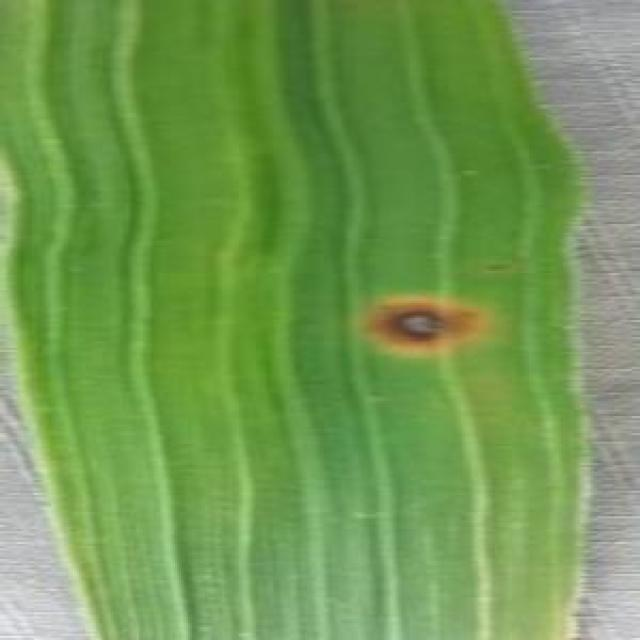Brown_Spot: (350, 292, 489, 364)
